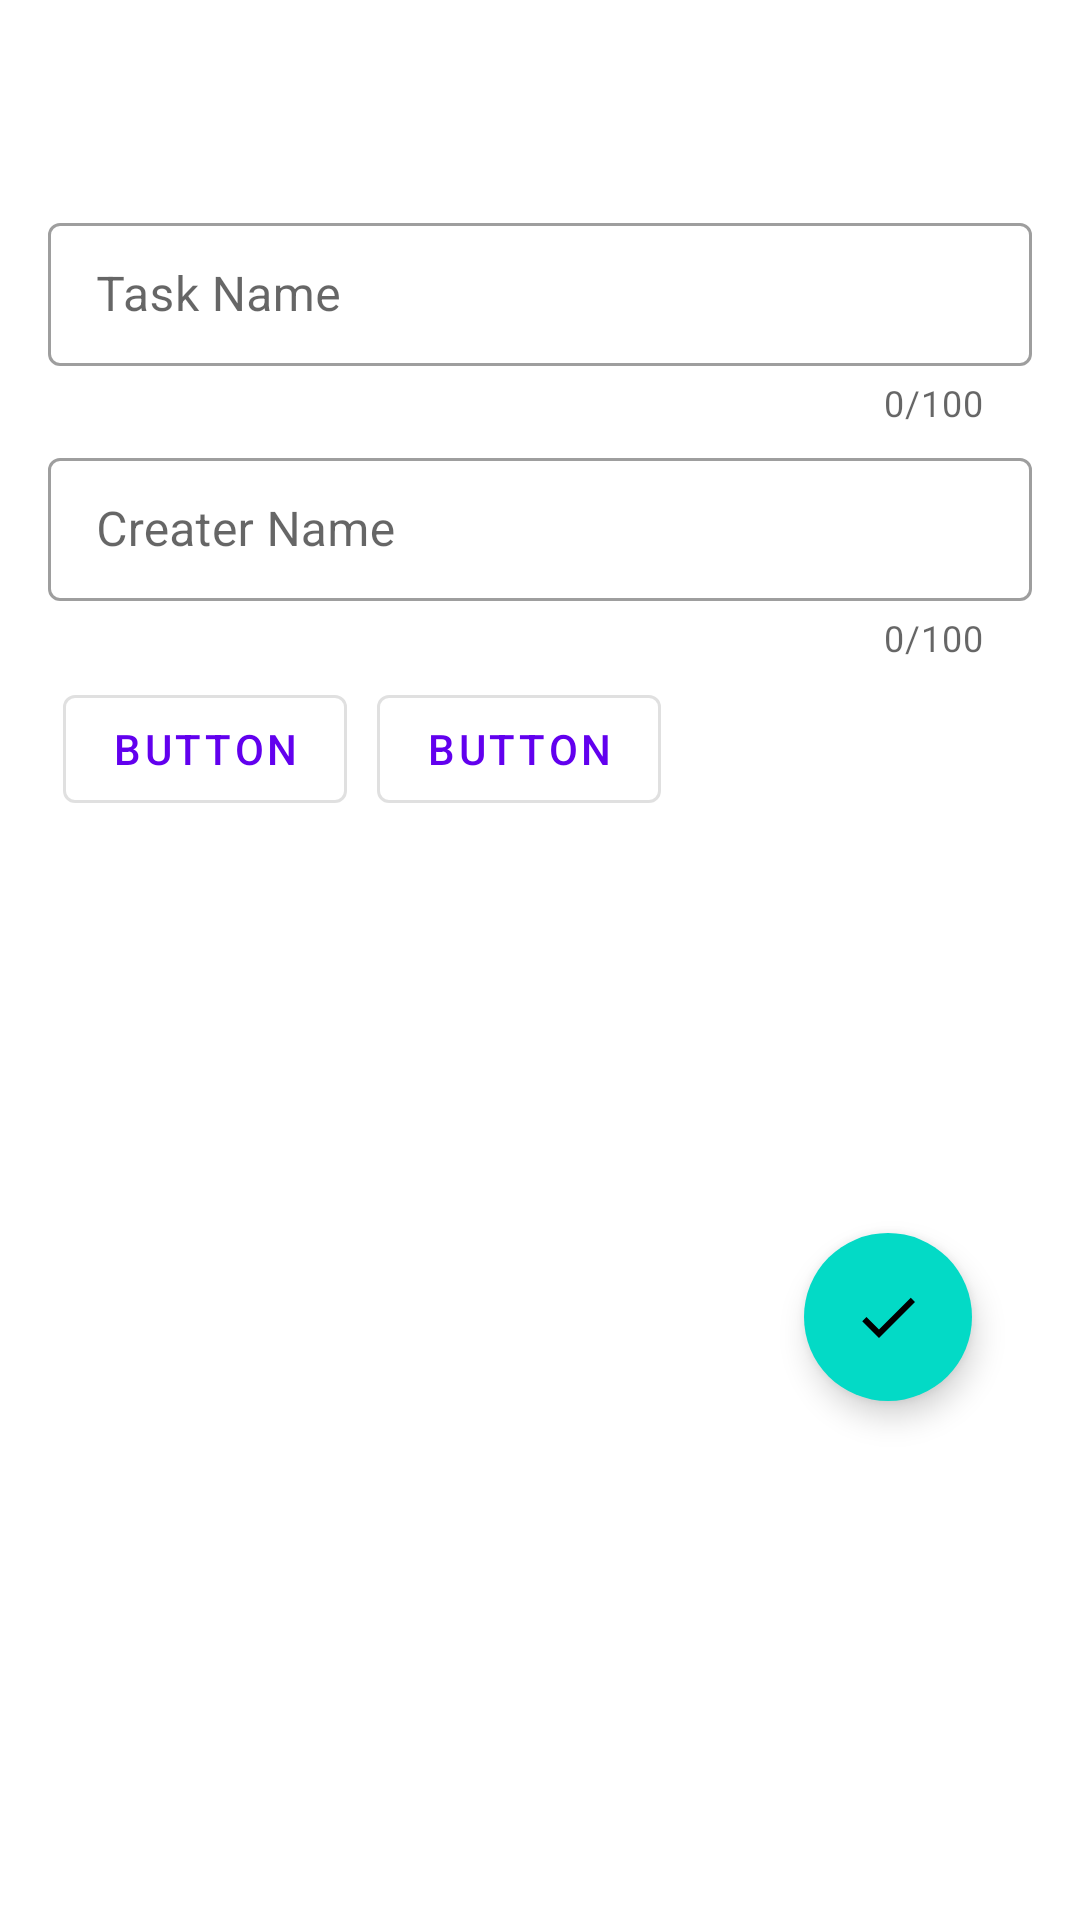

Locate icon controls on the screen. Image size 1080*1920, boxes as box(x1, y1, x2, y2).
check: box(804, 1233, 972, 1401)
